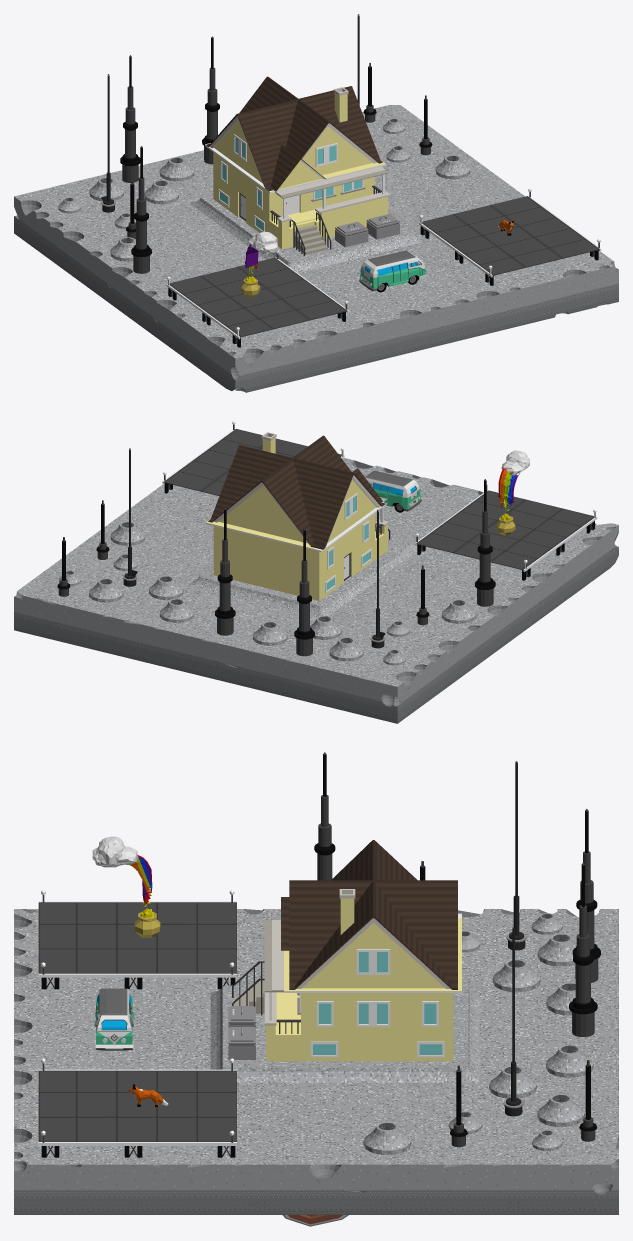
The picture shows the model from 3 angles, top to bottom: view 1: azimuth 30°, elevation 25°; view 2: azimuth 150°, elevation 25°; view 3: azimuth 270°, elevation 25°; orthographic projection. The views are drawn at different scales.
Visible parts, largest first — view 1: Cube.027, Cube.1555, Cube.026, Cube.025, Cube.028, VEHICLES_VAN, Cylinder.021, Cylinder.020, OBJRANDOM_RAINBOW, Cylinder.017, Cube.029, Cube.030 (+5 smaller); view 2: Cube.027, Cube.1555, Cube.025, Cube.028, Cube.026, VEHICLES_VAN, OBJRANDOM_RAINBOW, Cylinder.020, Cylinder.017, Cylinder.021, Cylinder.029, Cylinder.025 (+8 smaller); view 3: Cube.027, Cube.1555, Cube.026, Cube.025, Cube.028, Cylinder.017, VEHICLES_VAN, OBJRANDOM_RAINBOW, Cylinder.020, Cylinder.021, Cylinder.033, Cylinder.031 (+10 smaller).
Boxes of the visible parts, x1,y1,x2,y2 form: Cube.027: [14, 105, 618, 392]; Cube.1555: [205, 76, 390, 255]; Cube.026: [419, 188, 601, 285]; Cube.025: [166, 250, 348, 347]; Cube.028: [190, 194, 422, 272]; VEHICLES_VAN: [359, 250, 426, 292]; Cylinder.021: [131, 146, 151, 273]; Cylinder.020: [120, 55, 140, 182]; OBJRANDOM_RAINBOW: [241, 231, 278, 297]; Cylinder.017: [202, 36, 219, 164]; Cube.029: [335, 221, 368, 247]; Cube.030: [366, 214, 399, 239]; Cube.027: [14, 458, 618, 723]; Cube.1555: [205, 432, 390, 600]; Cube.025: [415, 483, 597, 580]; Cube.028: [189, 535, 417, 617]; Cube.026: [162, 421, 344, 495]; VEHICLES_VAN: [364, 470, 421, 512]; OBJRANDOM_RAINBOW: [496, 450, 529, 535]; Cylinder.020: [294, 528, 314, 656]; Cylinder.017: [215, 508, 235, 635]; Cylinder.021: [475, 479, 495, 606]; Cylinder.029: [159, 598, 194, 622]; Cylinder.025: [441, 599, 476, 623]; Cube.027: [14, 909, 618, 1214]; Cube.1555: [232, 840, 461, 1061]; Cube.026: [38, 1058, 236, 1157]; Cube.025: [38, 890, 236, 989]; Cube.028: [210, 985, 479, 1082]; Cylinder.017: [569, 862, 597, 1036]; VEHICLES_VAN: [94, 988, 133, 1050]; OBJRANDOM_RAINBOW: [92, 836, 160, 937]; Cylinder.020: [572, 809, 600, 982]; Cylinder.021: [314, 752, 335, 880]; Cylinder.033: [363, 1122, 411, 1154]; Cylinder.031: [537, 1094, 584, 1126].
Size of the model in its own units: 4000 by 2515 by 4000.
47 materials, 4 textured.
